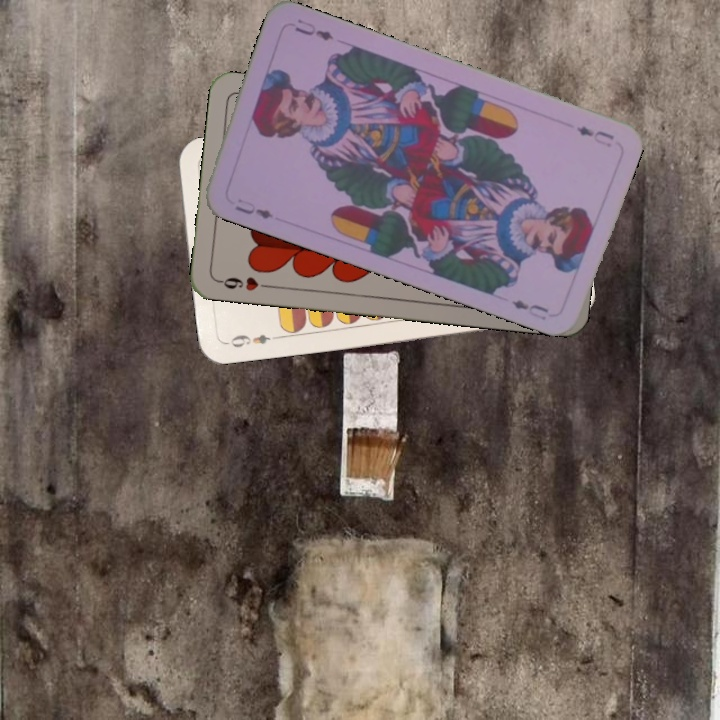E9: (223, 330, 282, 350)
EU: (572, 121, 617, 150), (230, 194, 276, 222)
H9: (214, 273, 273, 294)
